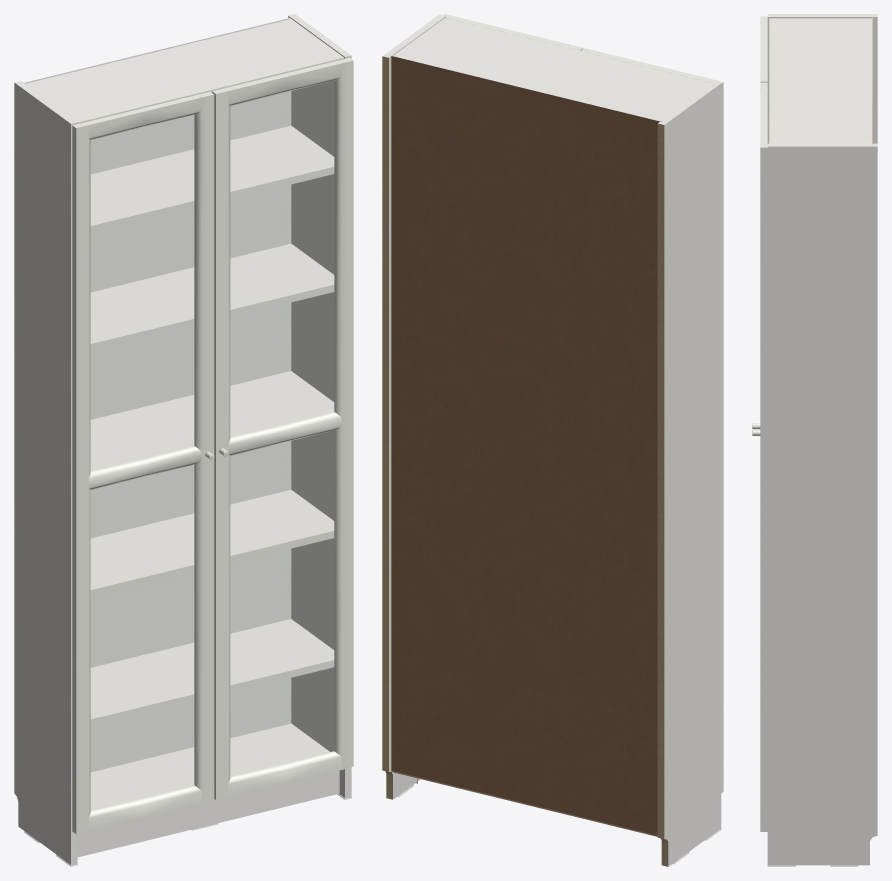
The model's file is billy-oxberg-80x30x202-white-original.glb.
The picture shows the model from 3 angles, left to right: view 1: azimuth 30°, elevation 25°; view 2: azimuth 150°, elevation 25°; view 3: azimuth 270°, elevation 25°; orthographic projection. The views are drawn at different scales.
Parts seen in each view (by area): view 1: Mesh_0; view 2: Mesh_0; view 3: Mesh_0.
Part boxes in pixels (<box>): Mesh_0: <box>14,14,353,864</box>; Mesh_0: <box>382,14,723,866</box>; Mesh_0: <box>752,14,877,865</box>.
Bounding box in the file's own units: 0.8003 × 2.02 × 0.3195.
Materials: 3 (1 with a texture image).
